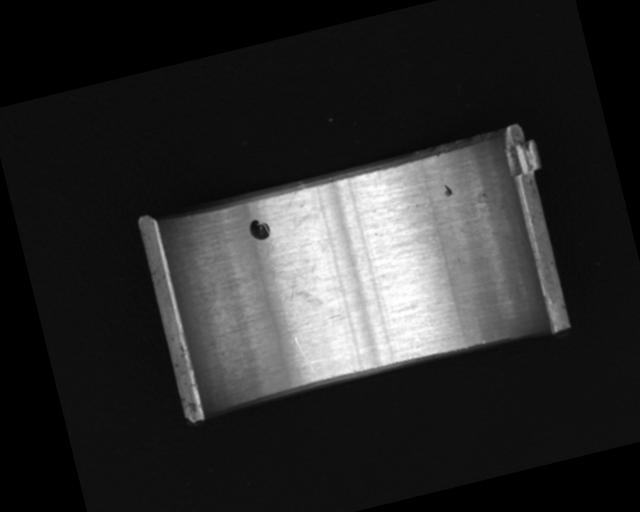blot: (264, 258, 326, 323), (246, 215, 273, 243)
bruise: (441, 182, 455, 199)
nick: (292, 332, 318, 379)
